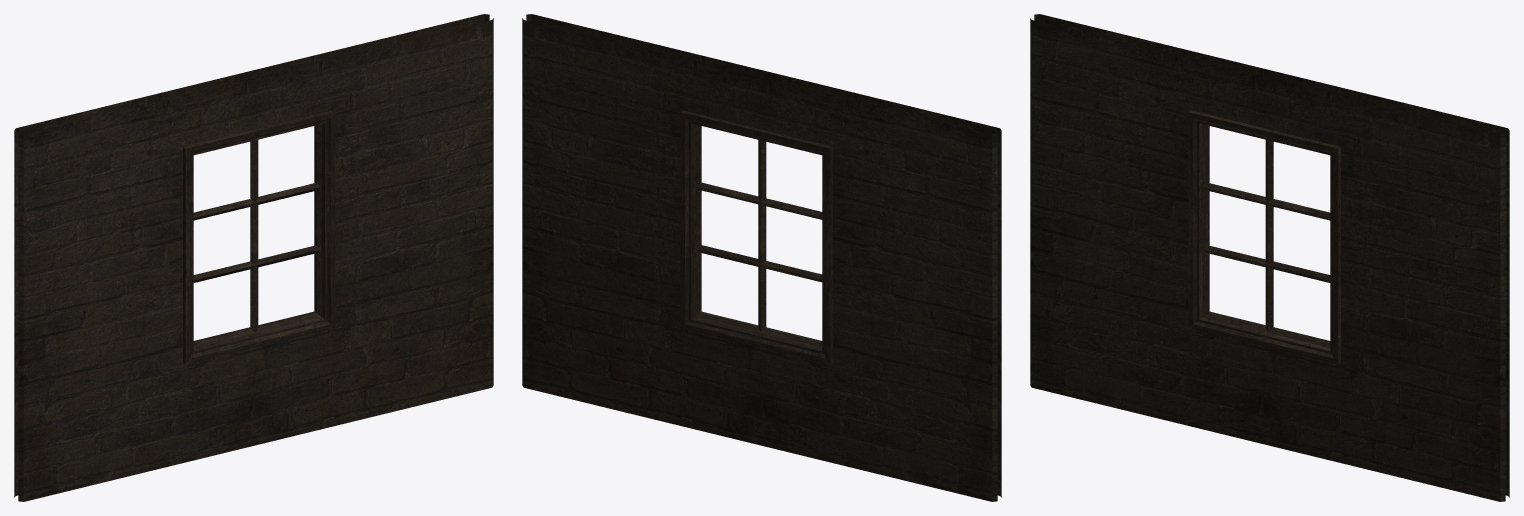
The model's file is window_1_single_no_glass.obj.
The picture shows the model from 3 angles, left to right: view 1: azimuth 30°, elevation 25°; view 2: azimuth 150°, elevation 25°; view 3: azimuth 330°, elevation 25°; orthographic projection.
Visible parts, largest first — view 1: window_1_single_no_glass; view 2: window_1_single_no_glass; view 3: window_1_single_no_glass.
Boxes of the visible parts, x1,y1,x2,y2 form: window_1_single_no_glass: [14, 14, 493, 501]; window_1_single_no_glass: [522, 14, 1001, 501]; window_1_single_no_glass: [1030, 14, 1509, 501].
Size of the model in its own units: 4.06 by 3 by 0.2.
